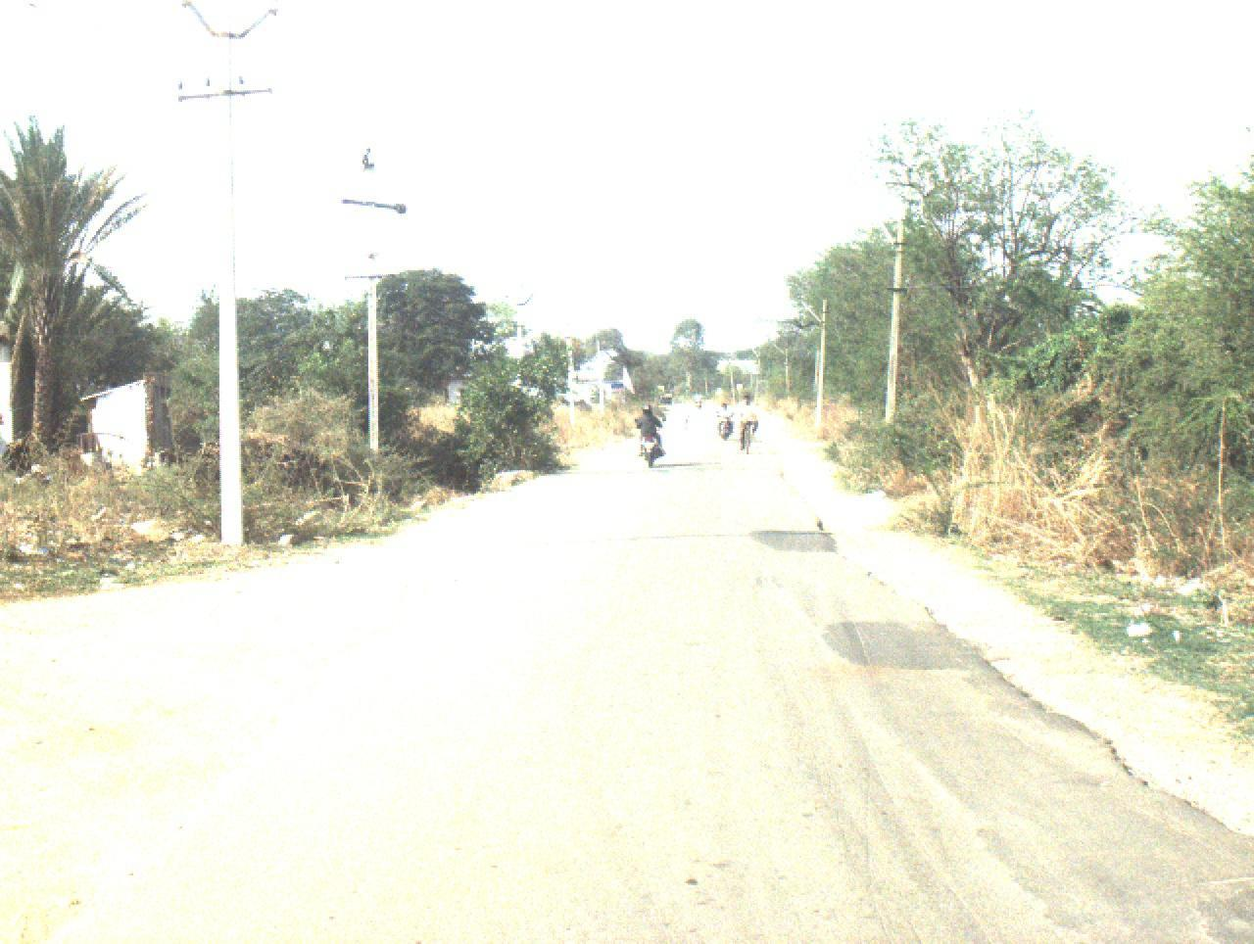streetlight: (864, 200, 906, 257), (799, 300, 826, 328), (768, 341, 789, 356), (748, 345, 762, 362)
